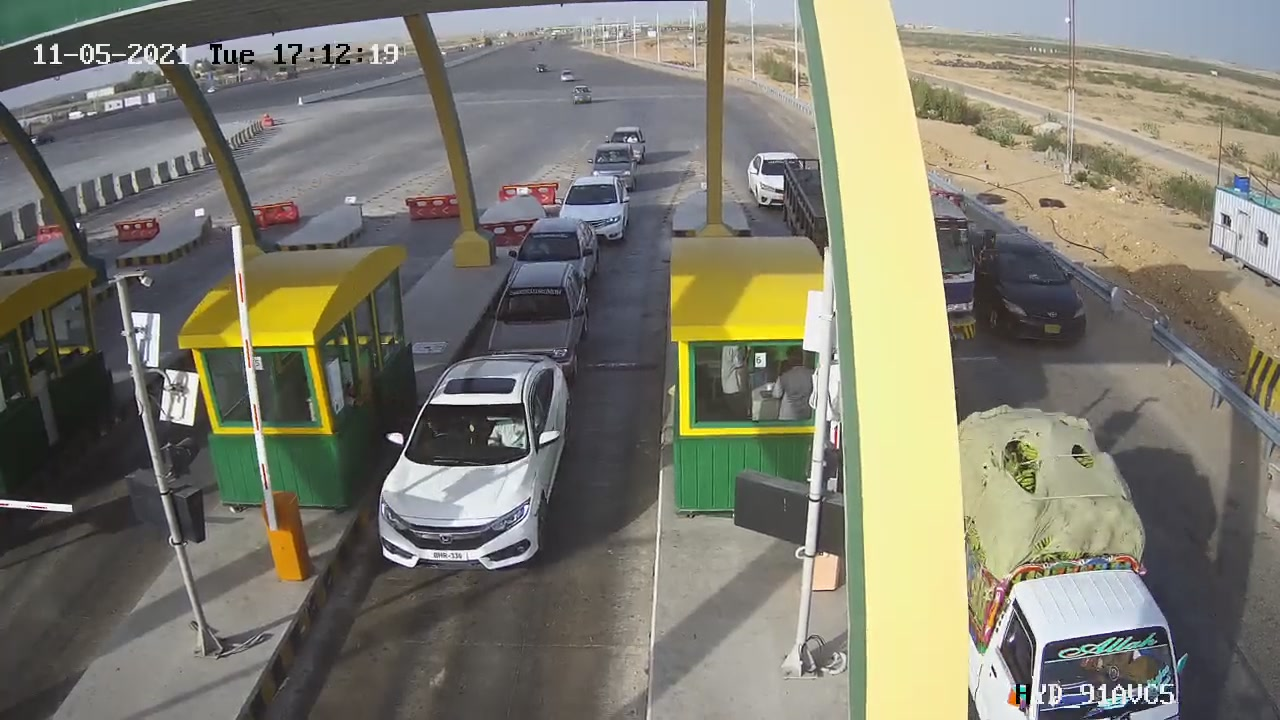F1: (357, 340, 591, 591)
